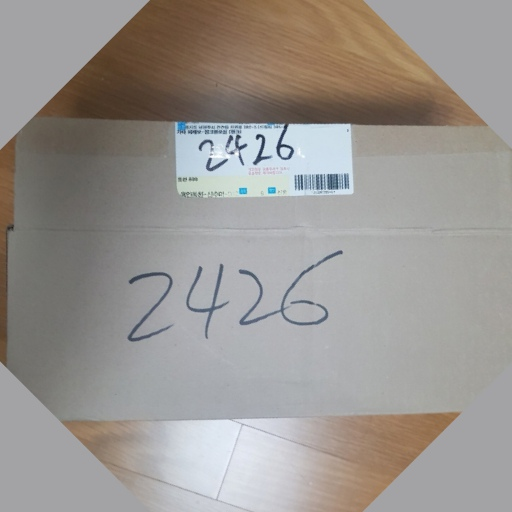Paper_0: (6, 111, 512, 428)
